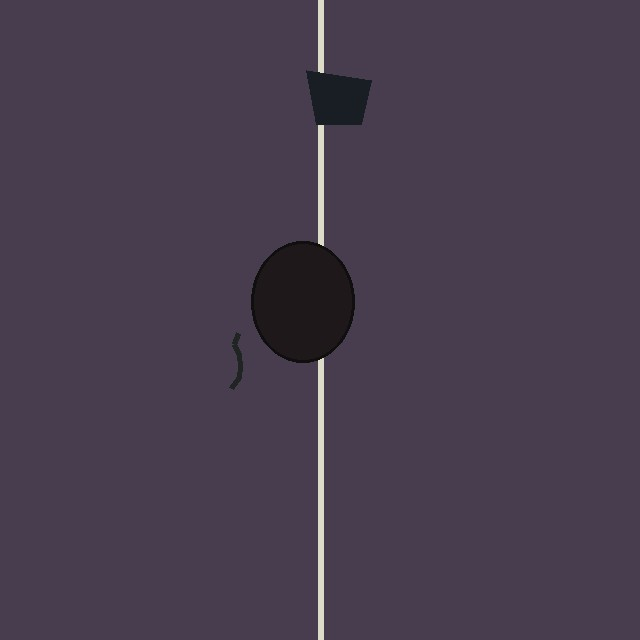damaged_surface: (306, 70, 371, 124)
longitudinal_crack: (235, 333, 331, 392)
pothole: (251, 241, 354, 362)
